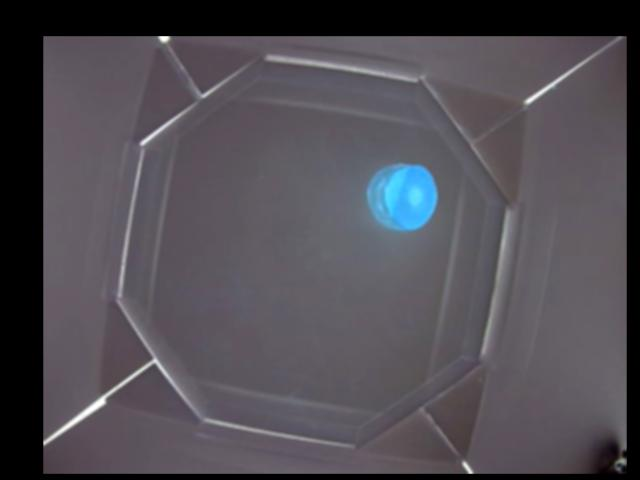Carrot: (366, 162, 437, 230)
